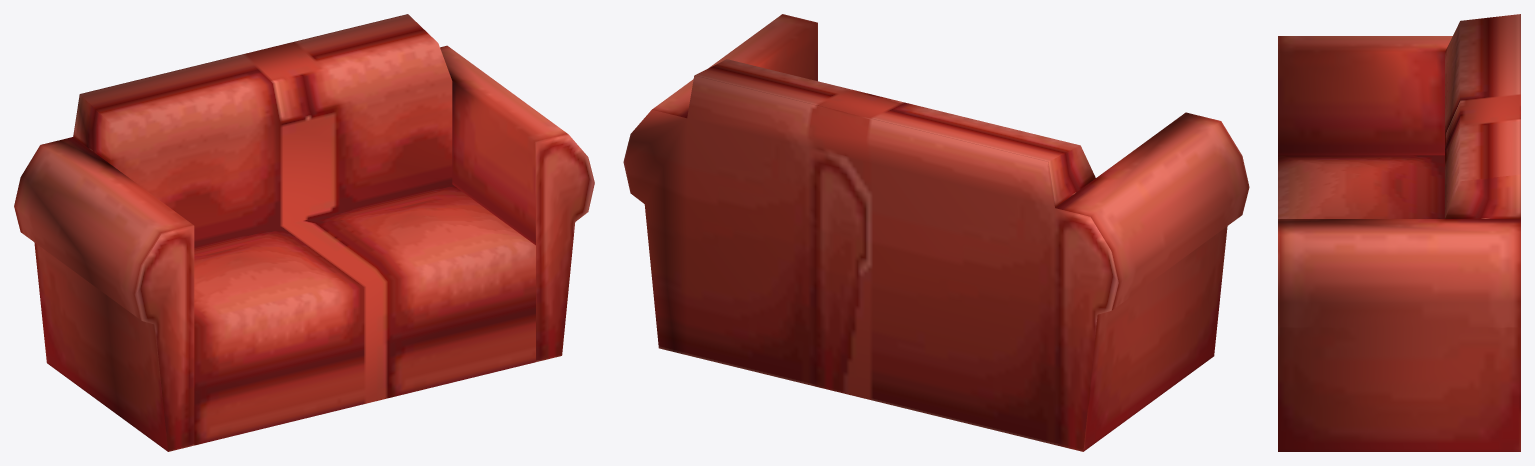
Rendered from rmk_red_chairL.dae.
3 renders of one model, left to right at view 1: azimuth 30°, elevation 25°; view 2: azimuth 150°, elevation 25°; view 3: azimuth 270°, elevation 25°, orthographic. The views are drawn at different scales.
Visible parts, largest first — view 1: rmk_red_chairL; view 2: rmk_red_chairL; view 3: rmk_red_chairL.
Part boxes in pixels (<box>): rmk_red_chairL: <box>14,14,594,451</box>; rmk_red_chairL: <box>623,14,1249,451</box>; rmk_red_chairL: <box>1278,14,1520,451</box>.
Size of the model in its own units: 56 by 30.4 by 25.6.
1 material, 1 textured.
